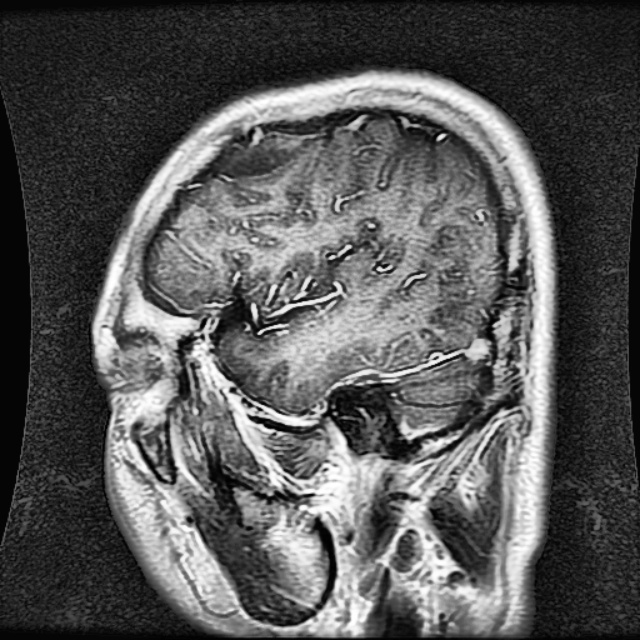Meningioma: (218, 140, 302, 175)
